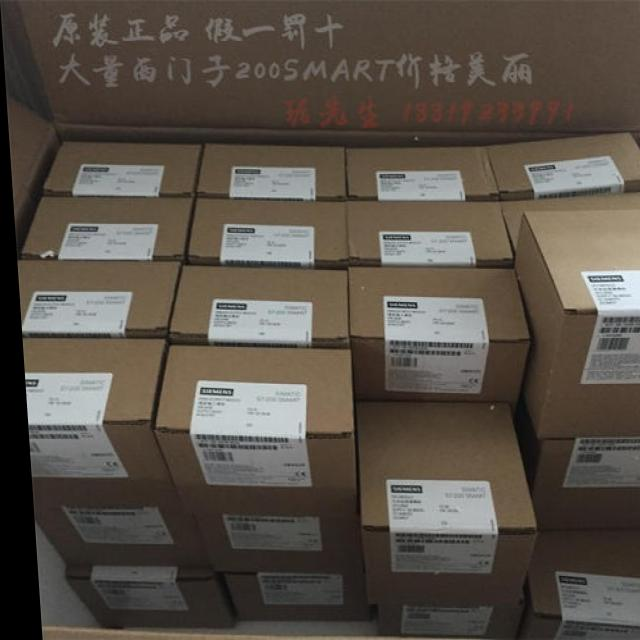box: (349, 401, 531, 605), (145, 342, 352, 517), (510, 208, 640, 439), (18, 335, 174, 506), (344, 264, 528, 403), (516, 392, 640, 531), (164, 262, 346, 349), (506, 528, 640, 640), (13, 257, 178, 338), (174, 507, 358, 573), (27, 502, 205, 568), (17, 195, 192, 262), (183, 196, 345, 268), (343, 198, 509, 268), (56, 564, 228, 628), (496, 190, 640, 264), (485, 132, 640, 198), (38, 140, 201, 196), (343, 146, 497, 201), (195, 143, 343, 200), (368, 588, 518, 639), (207, 573, 364, 621)
